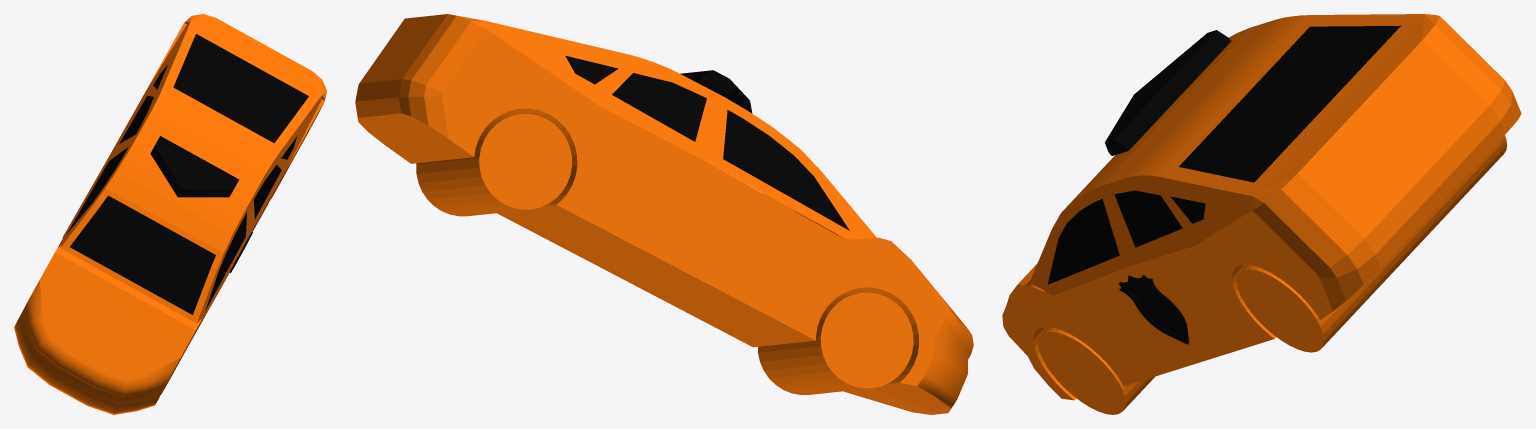
The model's file is PoliceCar_I_01.fbx.
3 renders of one model, left to right at view 1: azimuth 30°, elevation 25°; view 2: azimuth 150°, elevation 25°; view 3: azimuth 270°, elevation 25°, orthographic. The views are drawn at different scales.
Visible parts, largest first — view 1: PoliceCar_I_01; view 2: PoliceCar_I_01; view 3: PoliceCar_I_01.
Boxes of the visible parts, x1,y1,x2,y2 form: PoliceCar_I_01: (14, 14, 326, 414); PoliceCar_I_01: (355, 14, 973, 414); PoliceCar_I_01: (1002, 14, 1521, 414).
Bounding box in the file's own units: 121 × 96.79 × 89.18.
